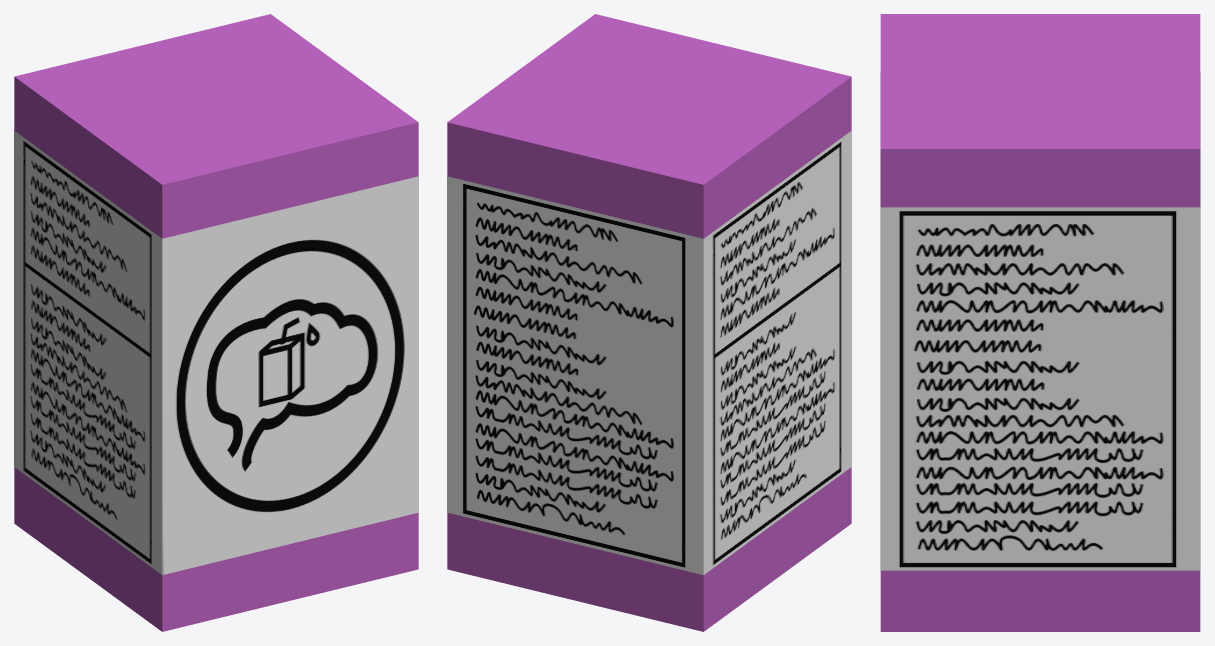
File: brainJuiceOTC.fbx
3 renders of one model, left to right at view 1: azimuth 30°, elevation 25°; view 2: azimuth 150°, elevation 25°; view 3: azimuth 270°, elevation 25°, orthographic. The views are drawn at different scales.
Visible parts, largest first — view 1: brainJuiceLabel, brainBox; view 2: brainJuiceLabel, brainBox; view 3: brainJuiceLabel, brainBox.
Boxes of the visible parts, bbox=[...] form: brainJuiceLabel: bbox=[14, 130, 418, 574]; brainBox: bbox=[14, 14, 418, 631]; brainJuiceLabel: bbox=[447, 130, 851, 575]; brainBox: bbox=[447, 14, 851, 631]; brainJuiceLabel: bbox=[880, 72, 1200, 570]; brainBox: bbox=[880, 14, 1200, 631].
Bounding box in the file's own units: 12.01 × 20 × 12.01.
